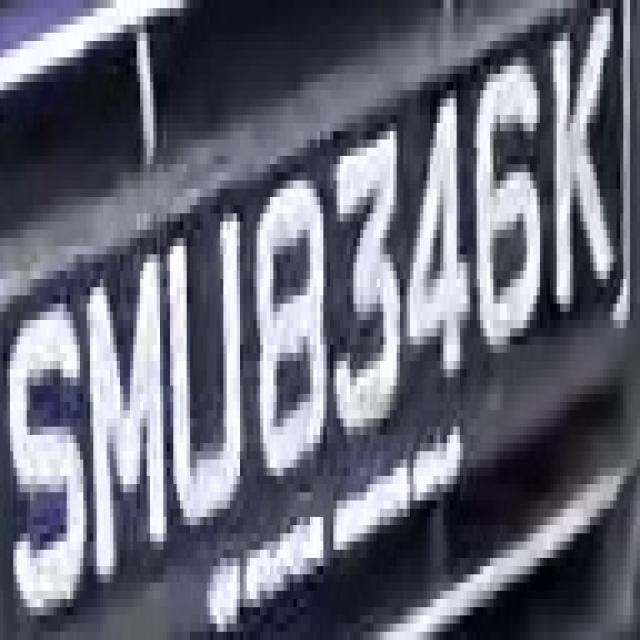3: (320, 99, 410, 452)
4: (397, 90, 480, 427)
6: (467, 49, 540, 353)
8: (247, 156, 340, 492)
K: (553, 8, 620, 328)
M: (80, 238, 177, 607)
S: (3, 295, 87, 640)
U: (170, 172, 247, 566)
